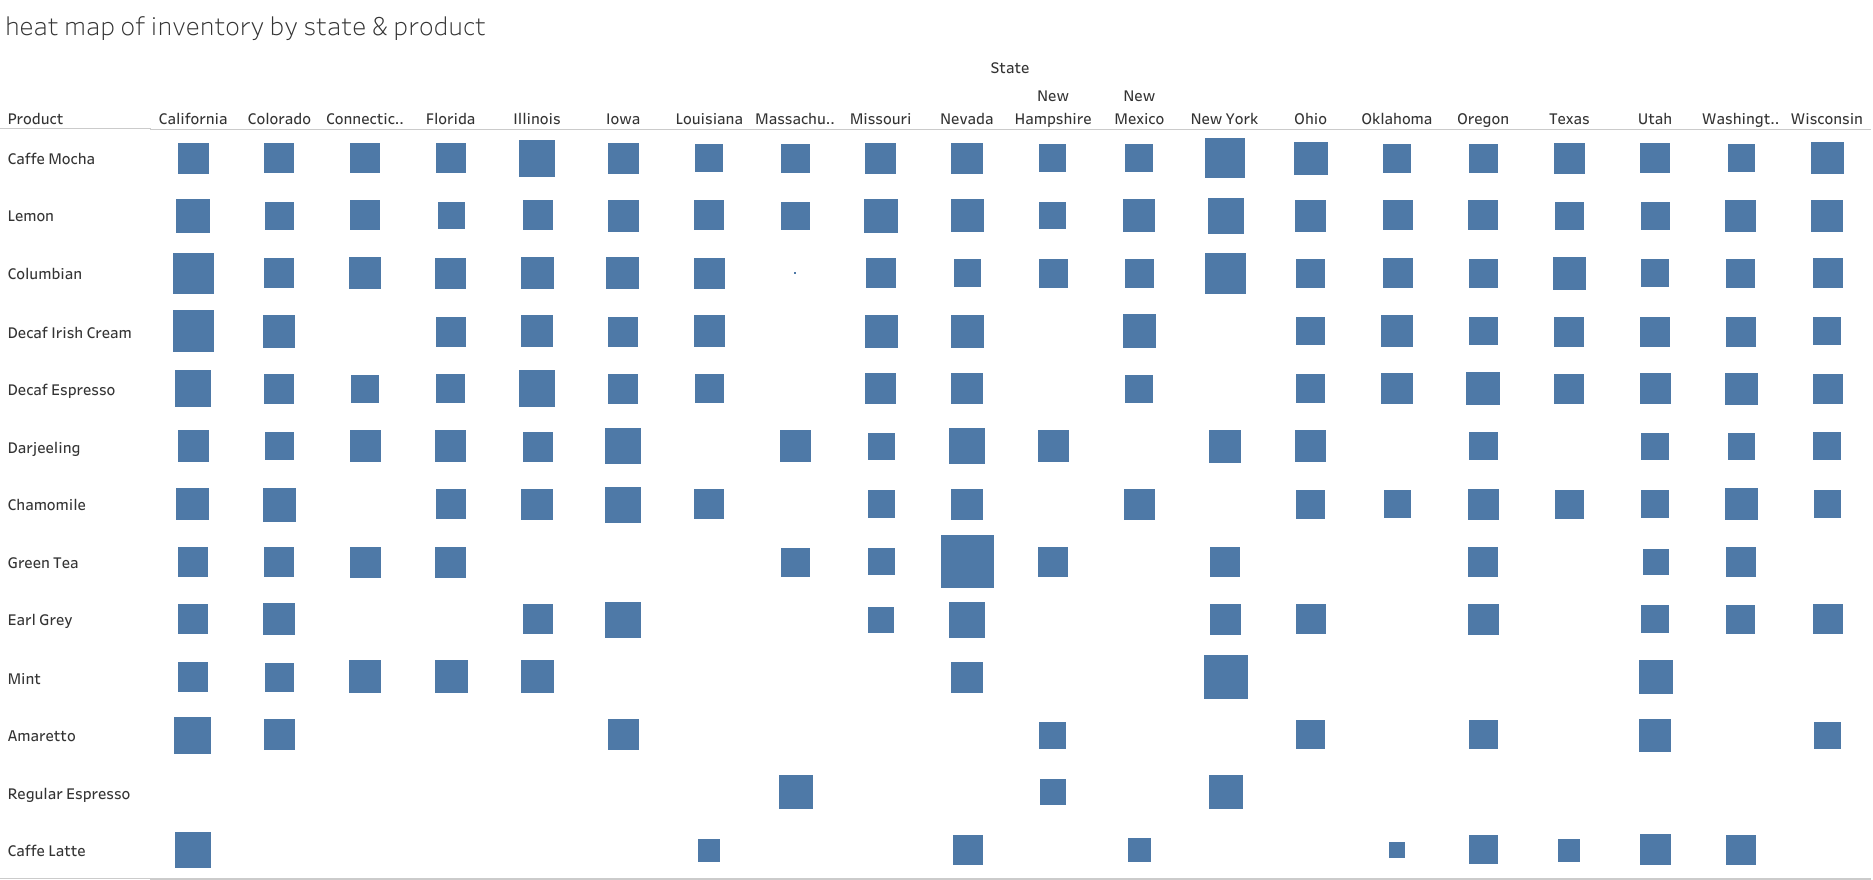

The dashboard page shown, as its layout file describes it:
{"tool":"tableau","page":{"name":"Dashboard 1","canvas":[1000,1000],"units":"permille","ordinal":0},"visuals":[{"type":"image","param":"Image/US Superstore.jpg","box":[4.8,8.2,990.3,983.5]}]}

Visuals, with their boxes on the dashboard's canvas, which has no fixed pixel size, in thousandths of its width and height (x1, y1, x2, y2). These are canvas units, not pixel positions in the 1873x880 screenshot, which may show the page scaled, cropped or inside an application window:
image: [5,8,995,992]
